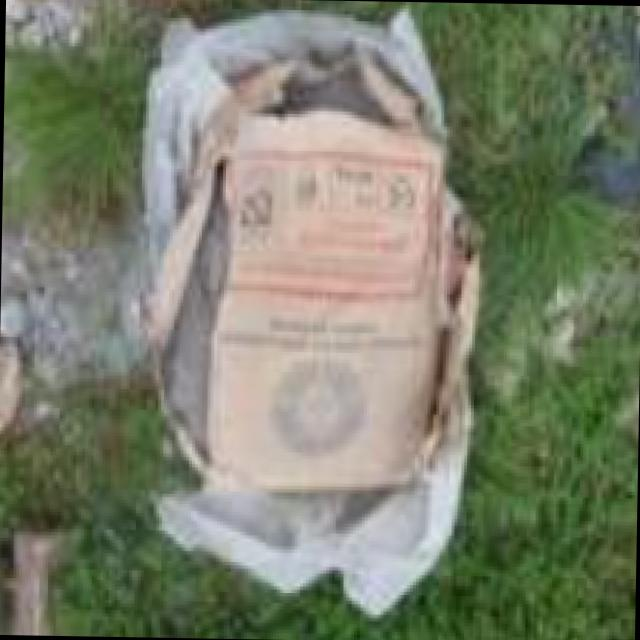KantongSemen: (128, 4, 489, 623)
